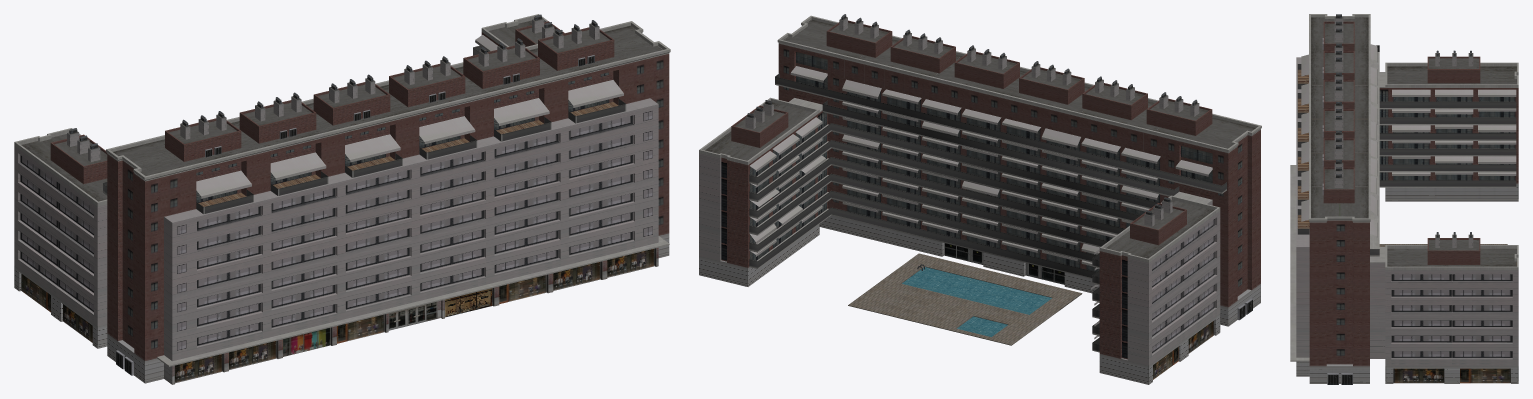
Rendered from low_rise_modern_condo_3.glb.
3 views of the same model, side by side, from view 1: azimuth 30°, elevation 25°; view 2: azimuth 150°, elevation 25°; view 3: azimuth 270°, elevation 25° (orthographic). The views are drawn at different scales.
Parts seen in each view (by area): view 1: LOWRISEMODERNCONDO3; view 2: LOWRISEMODERNCONDO3; view 3: LOWRISEMODERNCONDO3.
Part boxes in pixels (left/top/right/bottom): LOWRISEMODERNCONDO3: left=14, top=14, right=670, bottom=384; LOWRISEMODERNCONDO3: left=699, top=14, right=1261, bottom=384; LOWRISEMODERNCONDO3: left=1290, top=14, right=1518, bottom=384.
Size of the model in its own units: 8871 by 3796 by 4149.
Materials: 1 (1 with a texture image).
